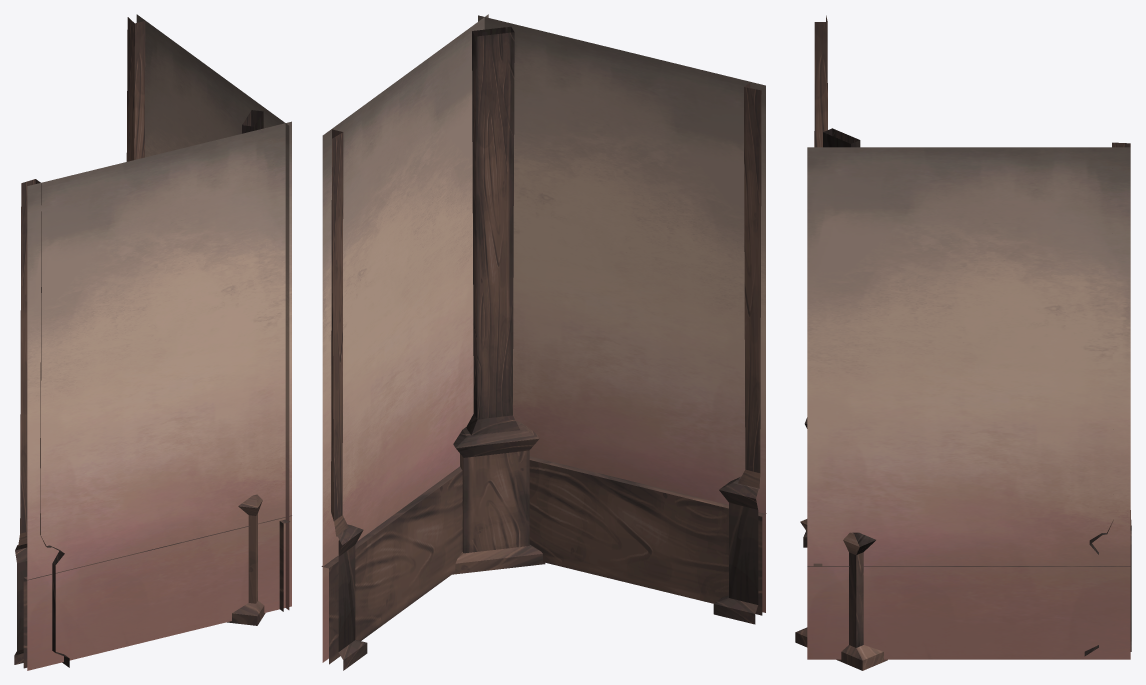
The model's file is Wall_Bot_Inner_Corner_LOD1.fbx.
The picture shows the model from 3 angles, left to right: view 1: azimuth 30°, elevation 25°; view 2: azimuth 150°, elevation 25°; view 3: azimuth 270°, elevation 25°; orthographic projection. The views are drawn at different scales.
Parts seen in each view (by area): view 1: Inner_Corner_Wall_Bot_LOD1; view 2: Inner_Corner_Wall_Bot_LOD1; view 3: Inner_Corner_Wall_Bot_LOD1.
Boxes of the visible parts, x1,y1,x2,y2 form: Inner_Corner_Wall_Bot_LOD1: [14, 14, 291, 670]; Inner_Corner_Wall_Bot_LOD1: [321, 14, 766, 670]; Inner_Corner_Wall_Bot_LOD1: [795, 15, 1131, 670].
Bounding box in the file's own units: 0.0252 × 0.0422 × 0.025.
